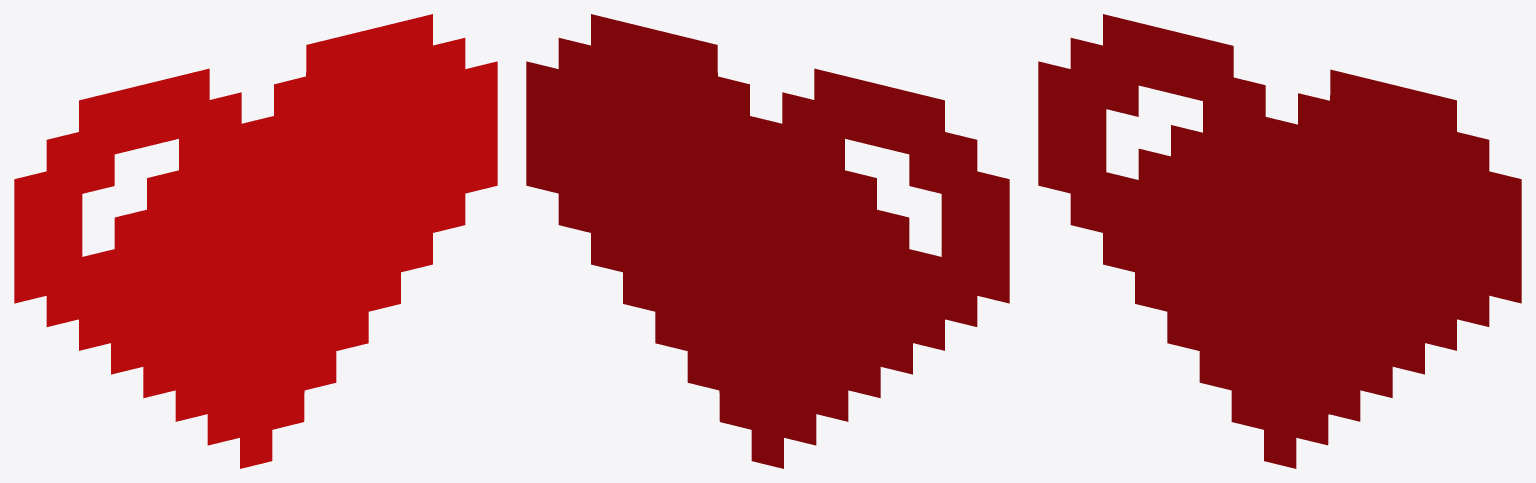
The model's file is 1Life.fbx.
3 views of the same model, side by side, from view 1: azimuth 30°, elevation 25°; view 2: azimuth 150°, elevation 25°; view 3: azimuth 330°, elevation 25° (orthographic).
Parts seen in each view (by area): view 1: path21.022; view 2: path21.022; view 3: path21.022.
Boxes of the visible parts, box(x1,y1,x2,y2) form: path21.022: box(14, 14, 497, 468); path21.022: box(526, 14, 1009, 468); path21.022: box(1038, 14, 1521, 468).
Size of the model in its own units: 9.51 by 7.67 by 1.25e-06.
